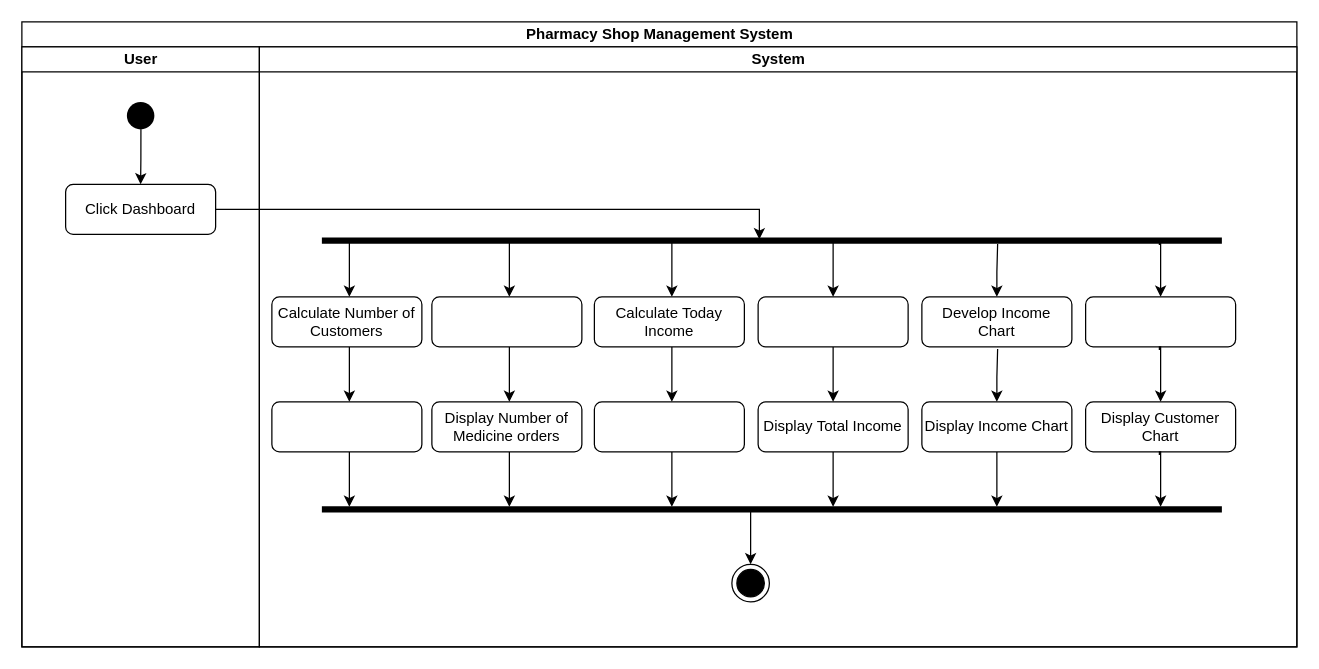
Image size: 1319x669. Some labels were removed from this diagram. Each missing label, with the centre of its shape:
Calculate Number of Medicine orders: point (506, 321)
Calculate Total Income: point (832, 321)
Develop Customer Chart: point (1160, 321)
Display Number of Customers: point (346, 426)
Display Today Income: point (668, 426)
